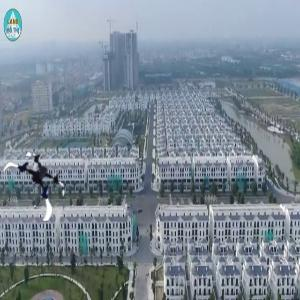drone: (1, 146, 71, 216)
